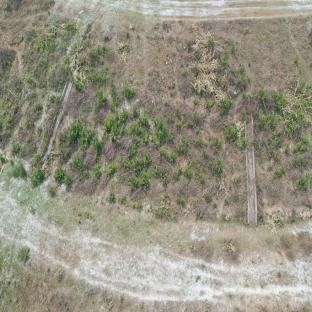slope_drain: (34, 26, 94, 172), (242, 100, 260, 232)
vegetation: (184, 33, 245, 110), (62, 34, 109, 89), (272, 77, 312, 133)
